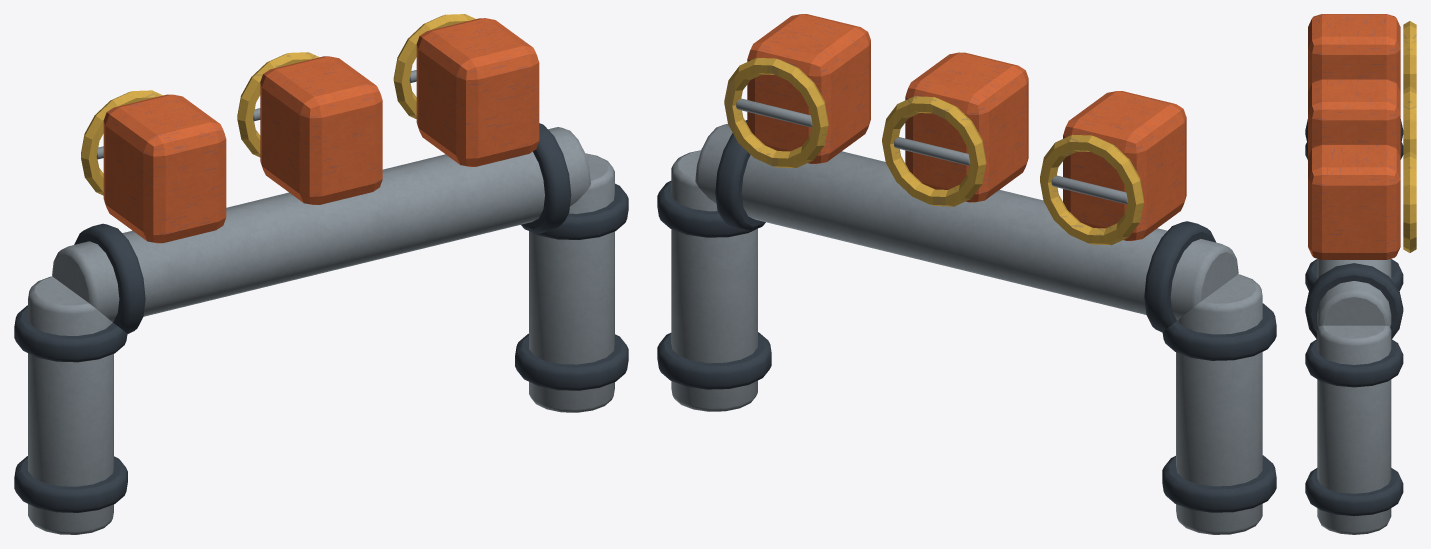
The model's file is pressure-valves.glb.
3 renders of one model, left to right at view 1: azimuth 30°, elevation 25°; view 2: azimuth 150°, elevation 25°; view 3: azimuth 270°, elevation 25°, orthographic. The views are drawn at different scales.
Parts seen in each view (by area): view 1: Assembly_Machined_alloy, Assembly_Graphite_frame, Target0, Target2, Target1, Valve wheel.001, Valve wheel, Valve wheel.002; view 2: Assembly_Machined_alloy, Assembly_Graphite_frame, Target0, Target1, Target2, Valve wheel.001, Valve wheel, Valve wheel.002, Valve cross, Valve cross.002, Valve cross.001; view 3: Assembly_Machined_alloy, Target2, Assembly_Graphite_frame, Target1, Target0, Valve wheel.002, Valve wheel, Valve wheel.001.
Part boxes in pixels (x1,y1,x2,y2): Assembly_Machined_alloy: [28, 127, 614, 534]; Assembly_Graphite_frame: [14, 123, 628, 512]; Target0: [103, 94, 226, 243]; Target2: [416, 18, 539, 166]; Target1: [260, 56, 382, 204]; Valve wheel.001: [237, 52, 319, 157]; Valve wheel: [81, 90, 162, 195]; Valve wheel.002: [393, 14, 475, 118]; Assembly_Machined_alloy: [671, 124, 1262, 534]; Assembly_Graphite_frame: [657, 120, 1276, 512]; Target0: [1063, 91, 1186, 240]; Target1: [905, 52, 1028, 202]; Target2: [747, 14, 870, 163]; Valve wheel.001: [882, 96, 986, 206]; Valve wheel: [1040, 134, 1143, 245]; Valve wheel.002: [724, 58, 828, 168]; Valve cross: [1051, 175, 1127, 204]; Valve cross.002: [736, 98, 812, 127]; Valve cross.001: [894, 137, 970, 165]; Assembly_Machined_alloy: [1317, 259, 1391, 534]; Target2: [1308, 144, 1400, 259]; Assembly_Graphite_frame: [1305, 119, 1403, 516]; Target1: [1308, 79, 1400, 156]; Target0: [1308, 14, 1400, 91]; Valve wheel.002: [1403, 151, 1416, 252]; Valve wheel: [1403, 21, 1416, 89]; Valve wheel.001: [1403, 86, 1416, 154].
Bounding box in the file's own units: 1.92 × 1.17 × 0.3601.
4 materials, 4 textured.
